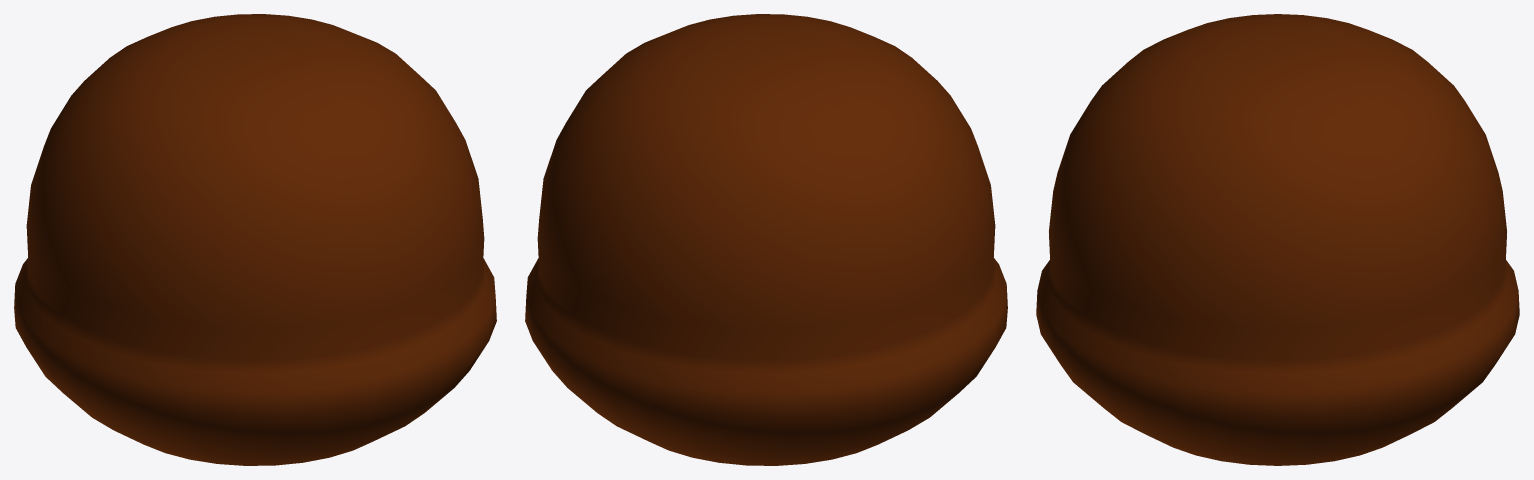
Rendered from BolaChocolate.fbx.
3 views of the same model, side by side, from view 1: azimuth 30°, elevation 25°; view 2: azimuth 150°, elevation 25°; view 3: azimuth 270°, elevation 25° (orthographic).
Visible parts, largest first — view 1: BolaChocolate; view 2: BolaChocolate; view 3: BolaChocolate.
Boxes of the visible parts, x1,y1,x2,y2 form: BolaChocolate: (14, 14, 496, 465); BolaChocolate: (525, 14, 1007, 465); BolaChocolate: (1036, 14, 1519, 465).
Size of the model in its own units: 305 by 270 by 305.
